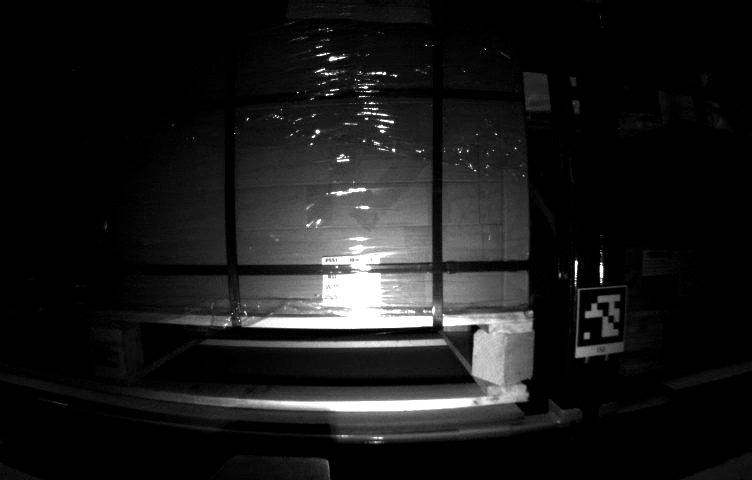True Barcode: (320, 259, 381, 306)
